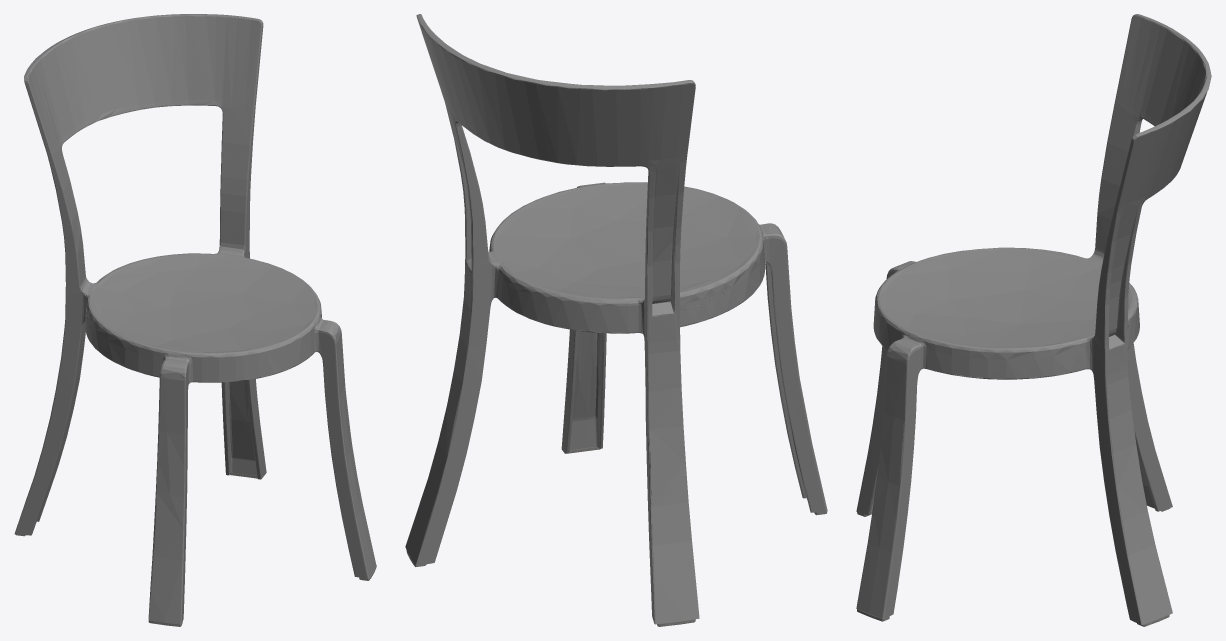
3 views of the same model, side by side, from view 1: azimuth 30°, elevation 25°; view 2: azimuth 150°, elevation 25°; view 3: azimuth 270°, elevation 25° (orthographic). The views are drawn at different scales.
Visible parts, largest first — view 1: 169b8c1d-ec32-4421-a9db-8bf82543f6d0_1; view 2: 169b8c1d-ec32-4421-a9db-8bf82543f6d0_1; view 3: 169b8c1d-ec32-4421-a9db-8bf82543f6d0_1.
Boxes of the visible parts, <box> form: 169b8c1d-ec32-4421-a9db-8bf82543f6d0_1: <box>14,14,376,624</box>; 169b8c1d-ec32-4421-a9db-8bf82543f6d0_1: <box>405,14,827,624</box>; 169b8c1d-ec32-4421-a9db-8bf82543f6d0_1: <box>856,14,1211,625</box>.
Bounding box in the file's own units: 0.47 × 0.82 × 0.54.
2 materials, 2 textured.
